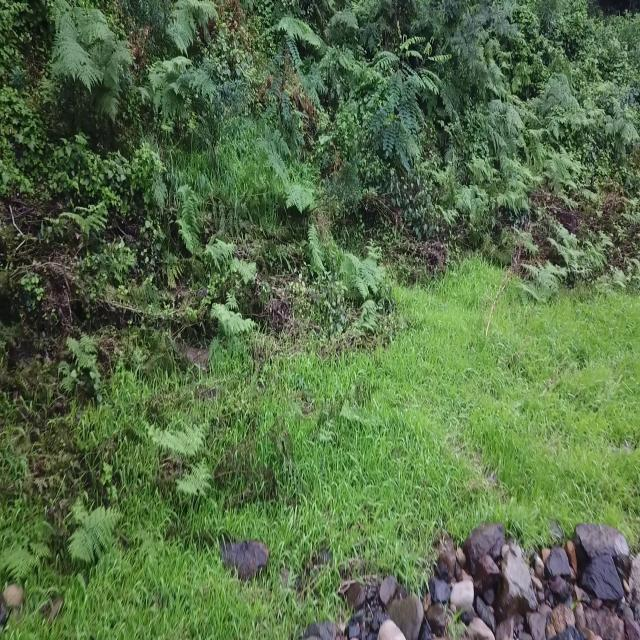Mysore-Thorn-Weed: (374, 62, 416, 166), (266, 25, 299, 135)
